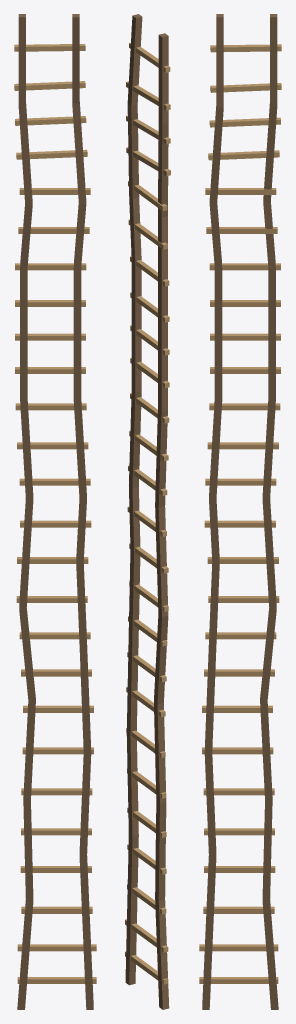
The model's file is Tower_Ladder.fbx.
3 renders of one model, left to right at view 1: azimuth 90°, elevation 25°; view 2: azimuth 210°, elevation 25°; view 3: azimuth 270°, elevation 25°, orthographic. The views are drawn at different scales.
Visible parts, largest first — view 1: Tower_Ladder; view 2: Tower_Ladder; view 3: Tower_Ladder.
Boxes of the visible parts, x1,y1,x2,y2 form: Tower_Ladder: (14,14,96,1009); Tower_Ladder: (125,14,170,1009); Tower_Ladder: (199,14,281,1009).
Bounding box in the file's own units: 13.41 × 919 × 69.24.
1 material, 1 textured.
